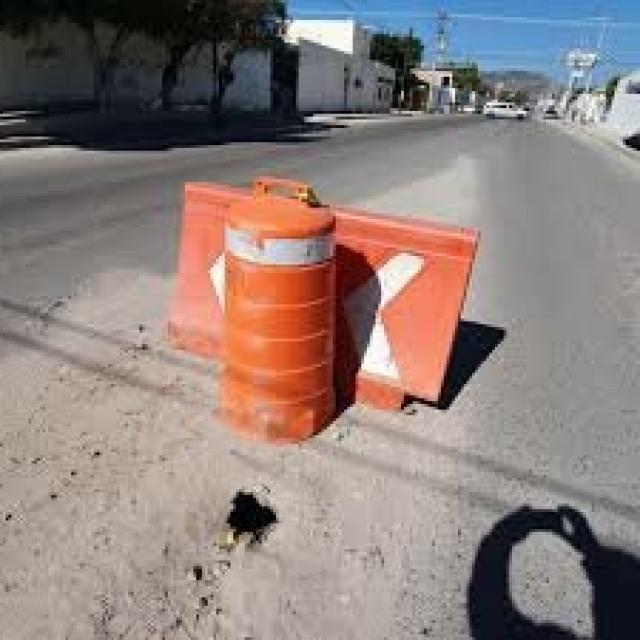pothole: (136, 444, 367, 604)
